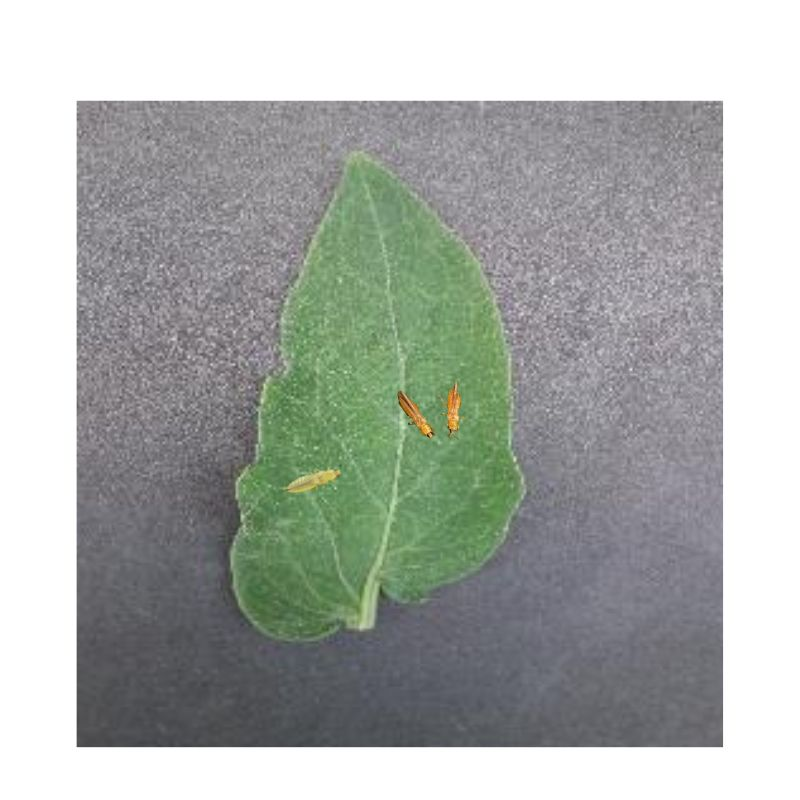thrips: (395, 392, 437, 442), (282, 465, 343, 494), (444, 378, 462, 442)
